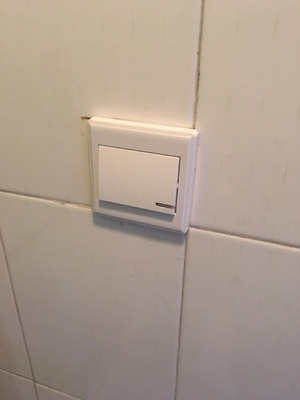switch: (90, 138, 182, 218)
